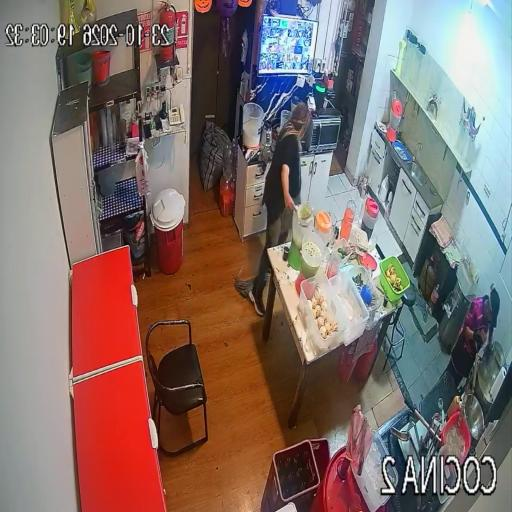Envase Llajua: (448, 395, 465, 417)
Jarra1: (362, 197, 379, 241)
Jarra2: (315, 210, 333, 244)
Jarra3: (293, 204, 314, 245)
Microondas: (303, 111, 342, 152)
Persona2: (451, 290, 499, 384)
Persona3: (249, 103, 309, 316)
Taper2: (358, 272, 382, 312)
Taper3: (329, 272, 369, 345)
Taper4: (298, 274, 349, 359)
